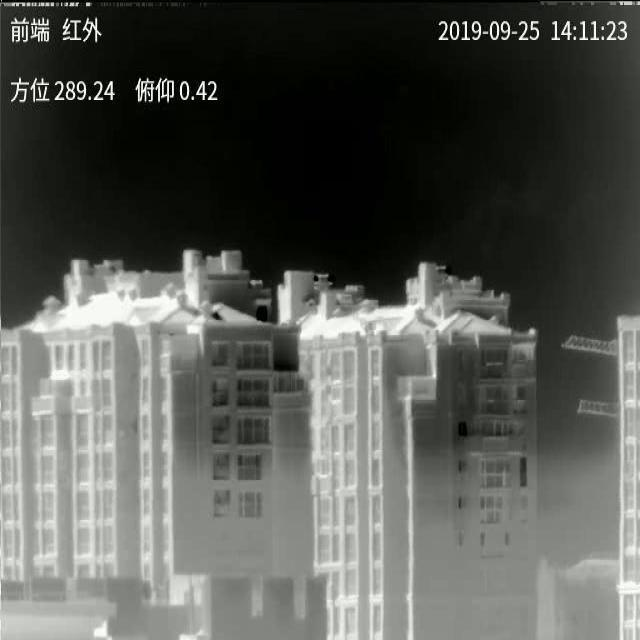drone: (50, 367, 89, 383)
